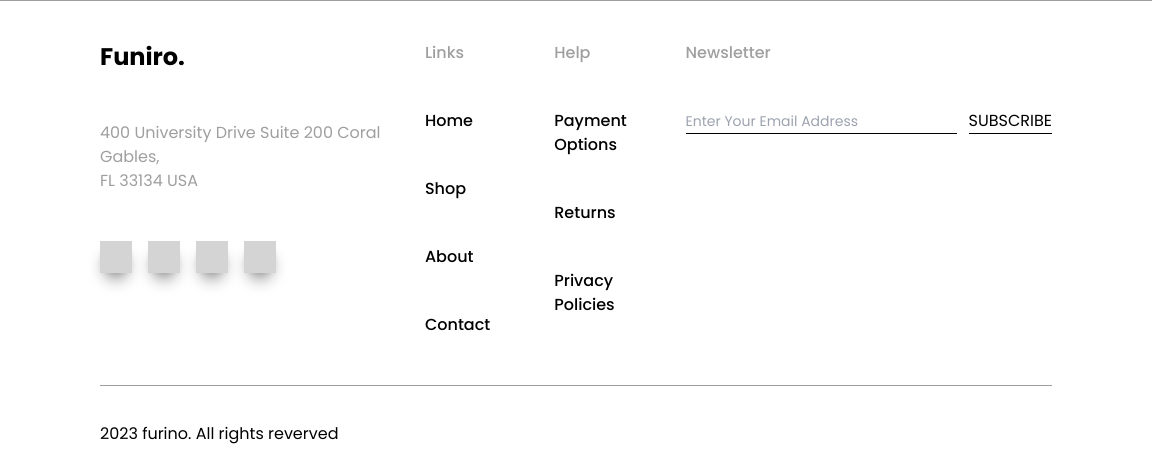
Test: Footer Component › displays error message
Type "invalidemail@dawesaddaw" into the field with placeholder "Enter Your Email Address" at (821, 122), box [686,109,957,134]
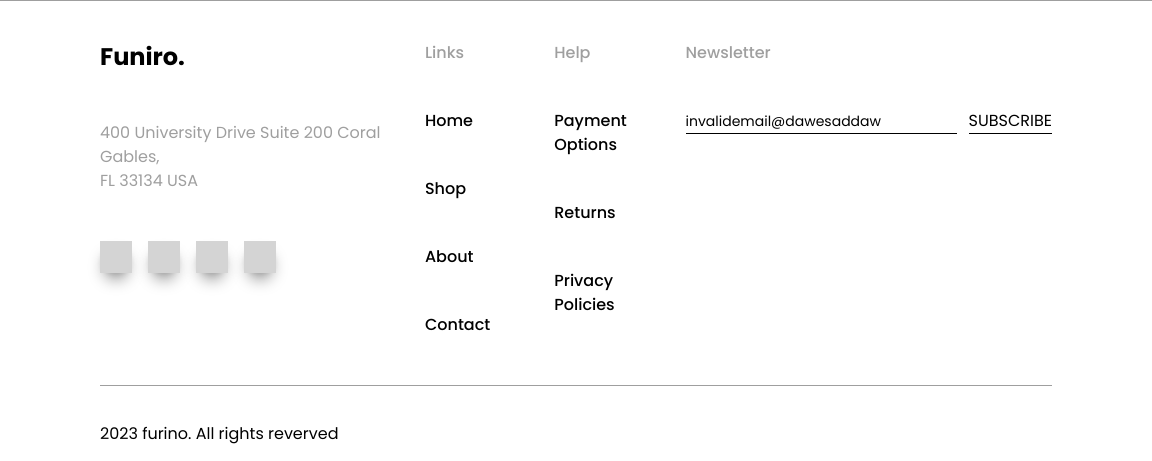
Click the button "SUBSCRIBE" at (1010, 122), box [969,109,1052,134]
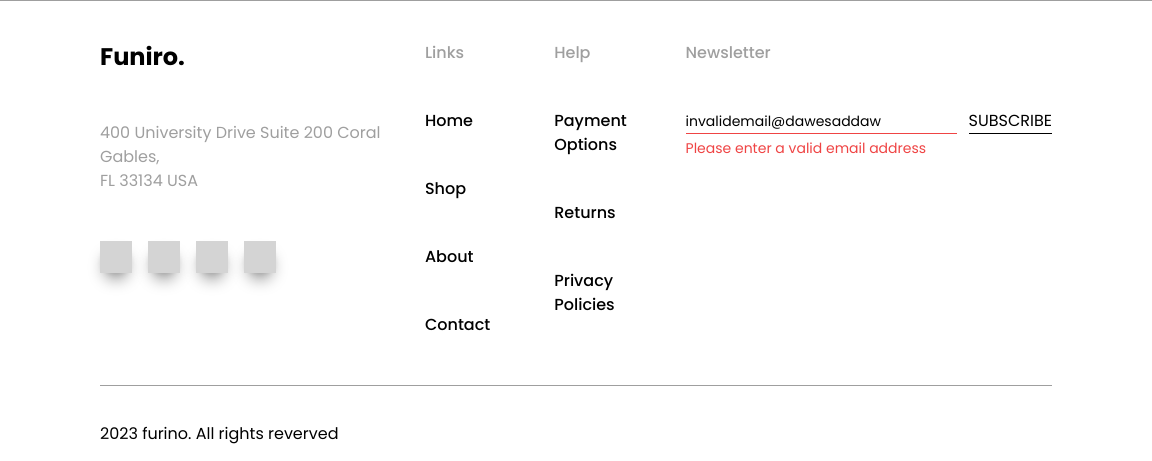
Expected: the text "Please enter a valid email address" is shown, [686,138,926,158]
